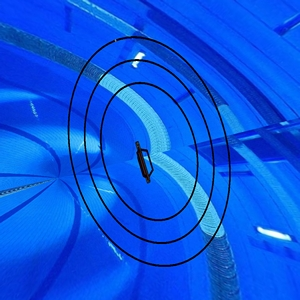circle: (64, 34, 237, 270)
submarine: (129, 138, 158, 188)
